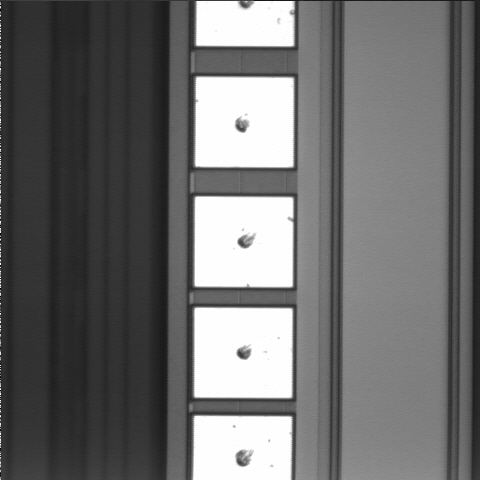pad: (195, 77, 294, 167), (195, 197, 293, 287), (194, 308, 292, 398)
